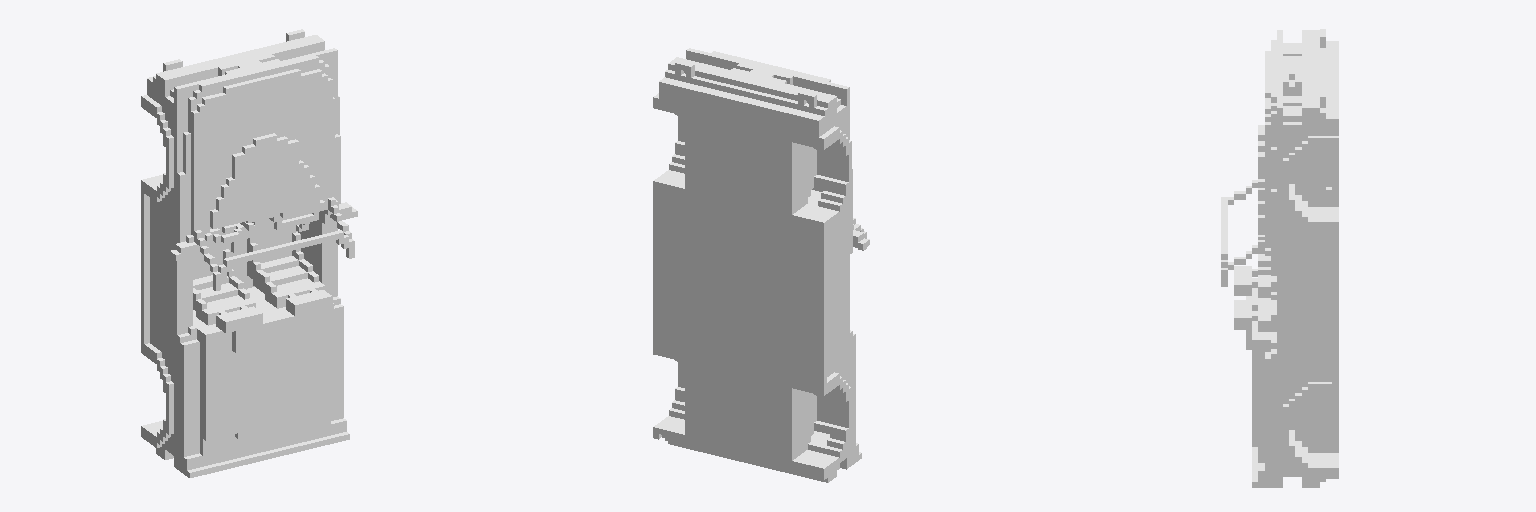
Rendered from BMW-ORANGE-4.obj.
The picture shows the model from 3 angles: view 1: azimuth 30°, elevation 25°; view 2: azimuth 150°, elevation 25°; view 3: azimuth 270°, elevation 25°; orthographic projection.
Parts seen in each view (by area): view 1: object 1; view 2: object 1; view 3: object 1.
Boxes of the visible parts, x1=… form: object 1: x1=141, y1=29, x2=357, y2=477; object 1: x1=653, y1=48, x2=869, y2=482; object 1: x1=1221, y1=29, x2=1338, y2=487.
Bounding box in the file's own units: 34 × 69 × 19.